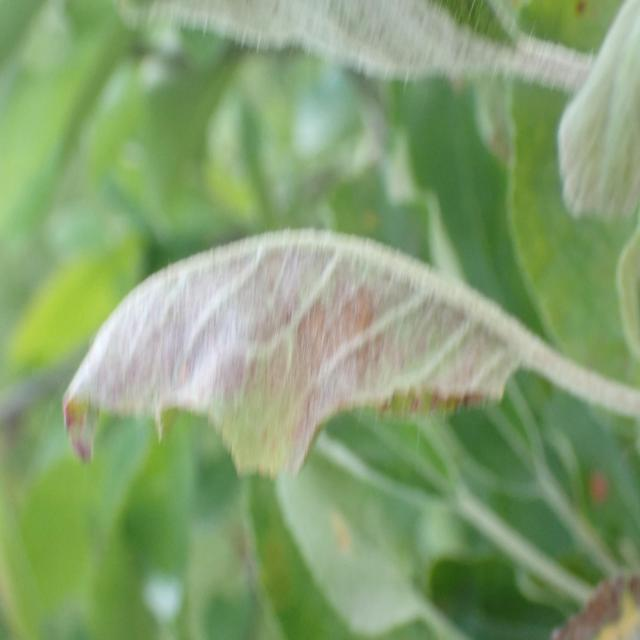Powdery_mildew: (47, 220, 534, 491), (112, 0, 532, 86), (550, 0, 640, 226)
